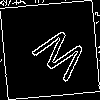W: (25, 25, 91, 90)
